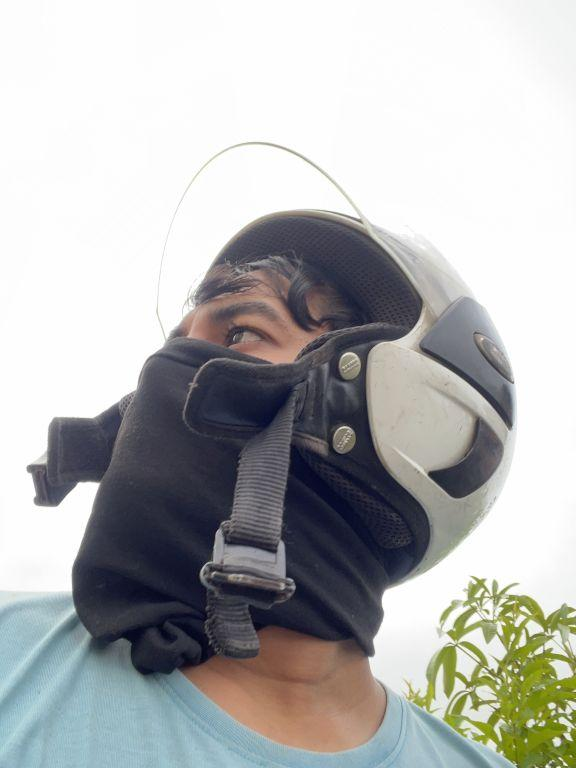helmet: (15, 97, 529, 627)
